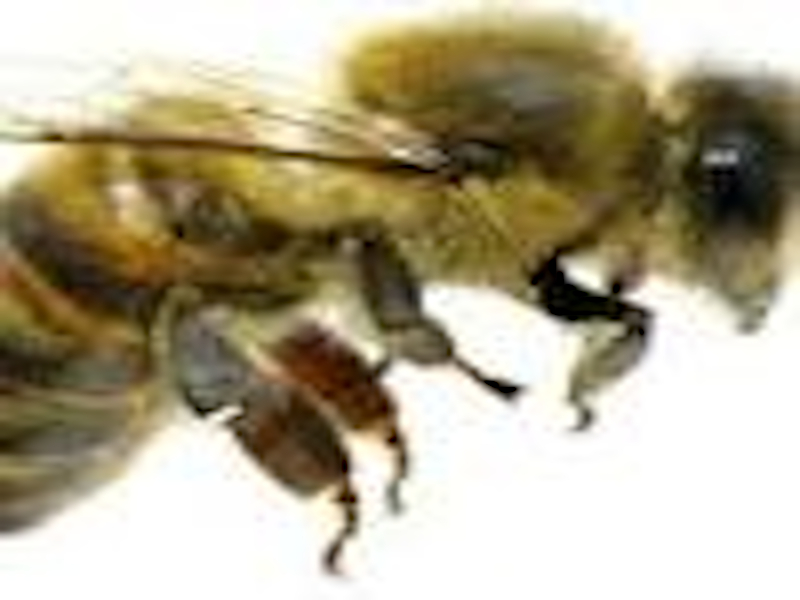abeja: (6, 19, 800, 573)
